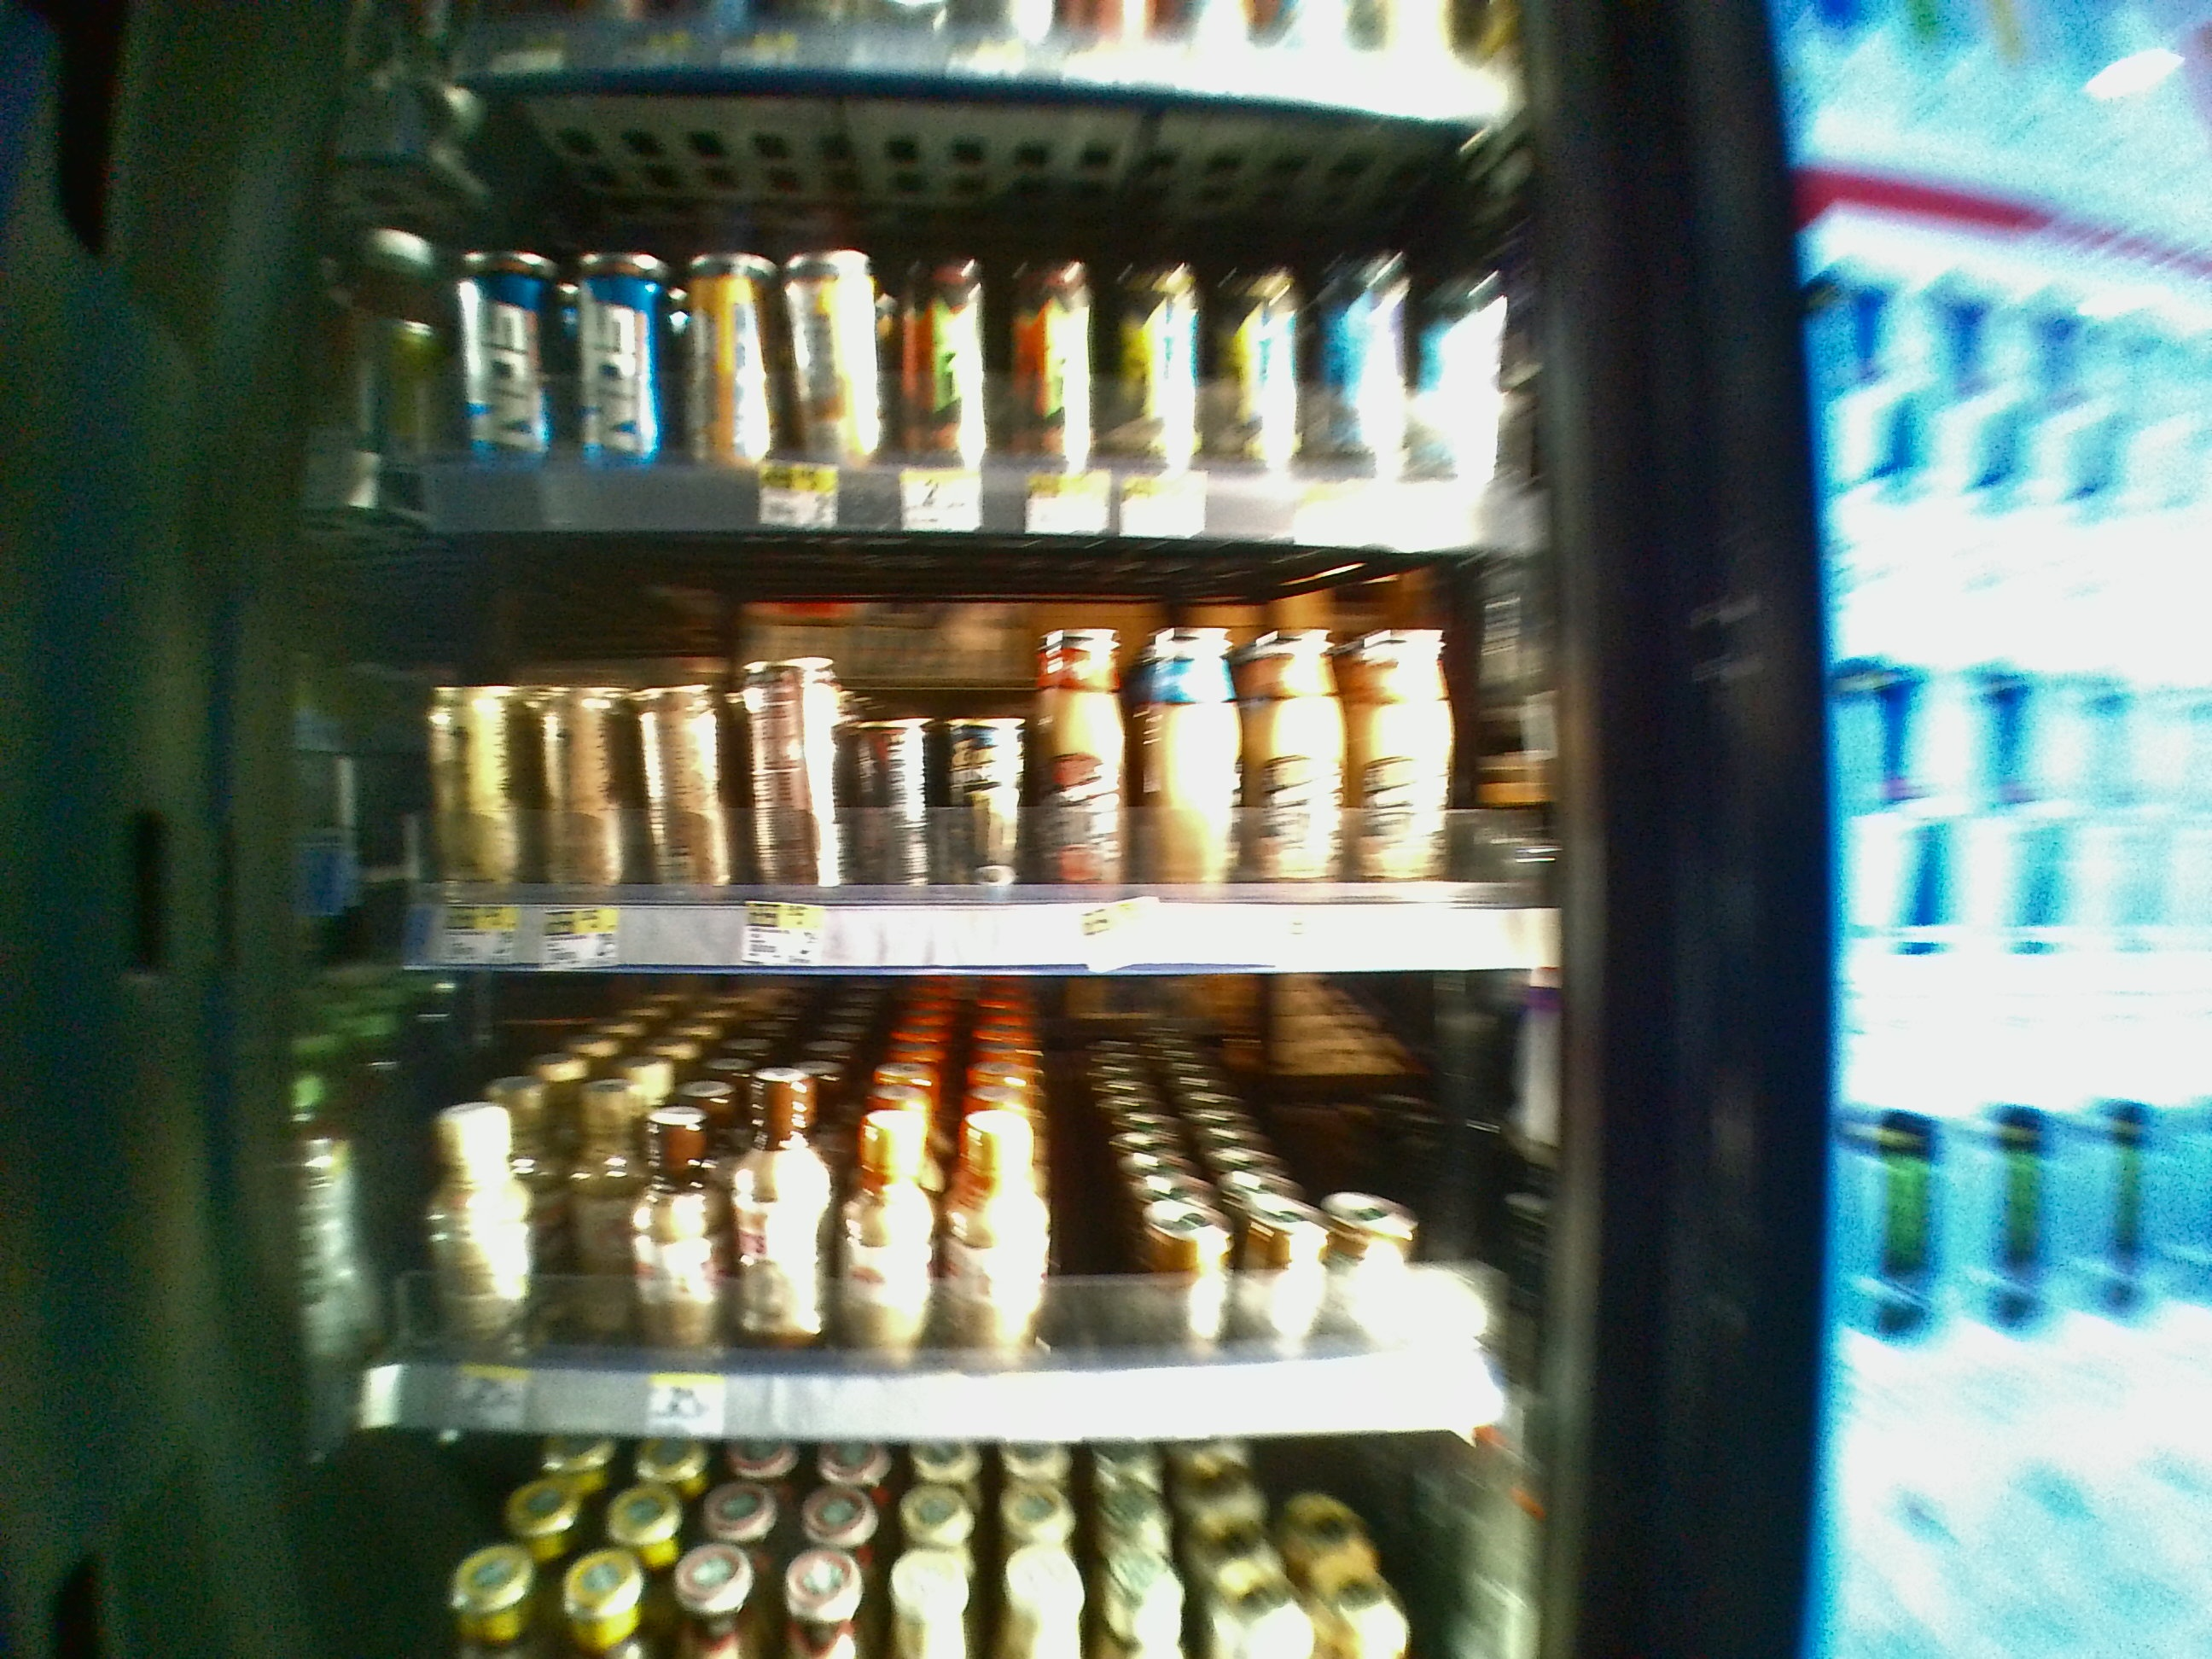shelf: (333, 974, 1568, 1434), (347, 544, 1569, 967)
